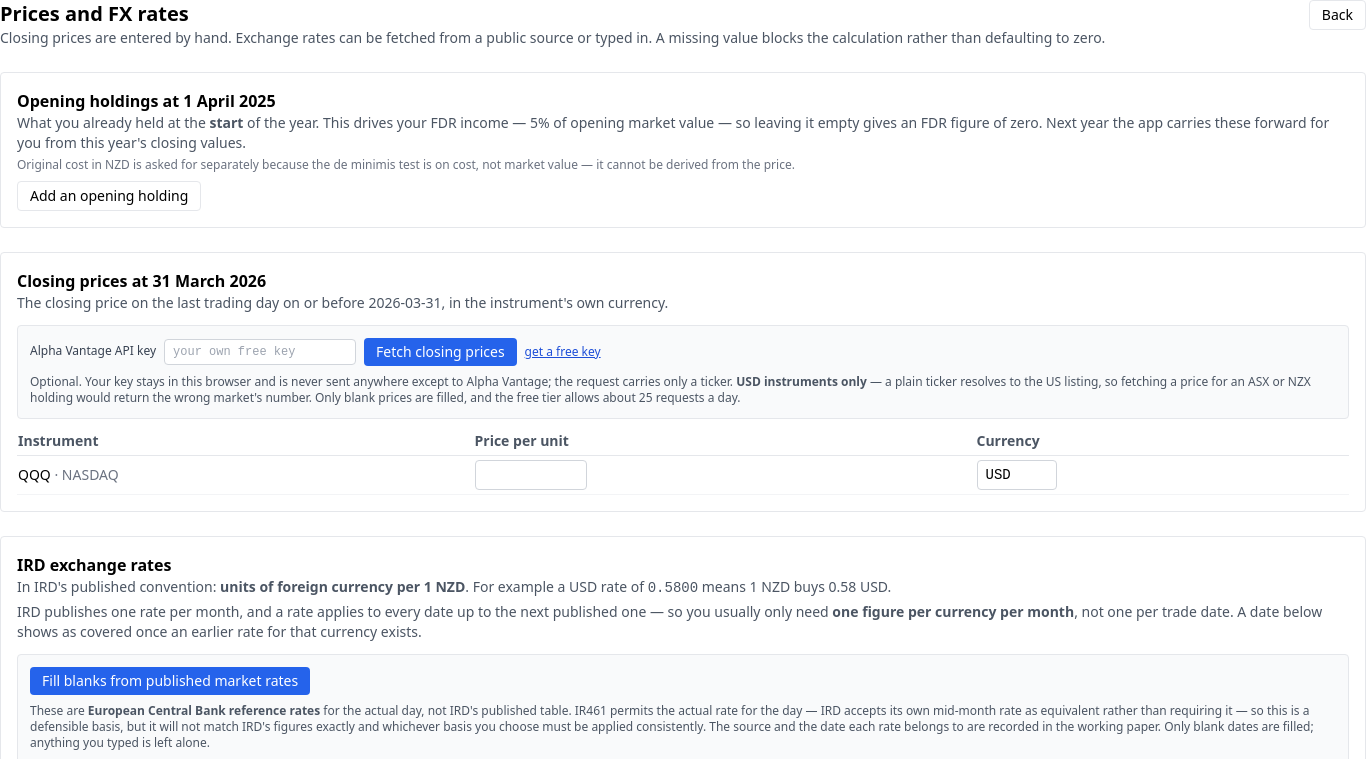
Test: fetching closing prices › asks for a key before attempting anything
Click the button with test id "fetch-prices".
click(440, 352)  # box top-left (364, 338), bottom-right (517, 366)
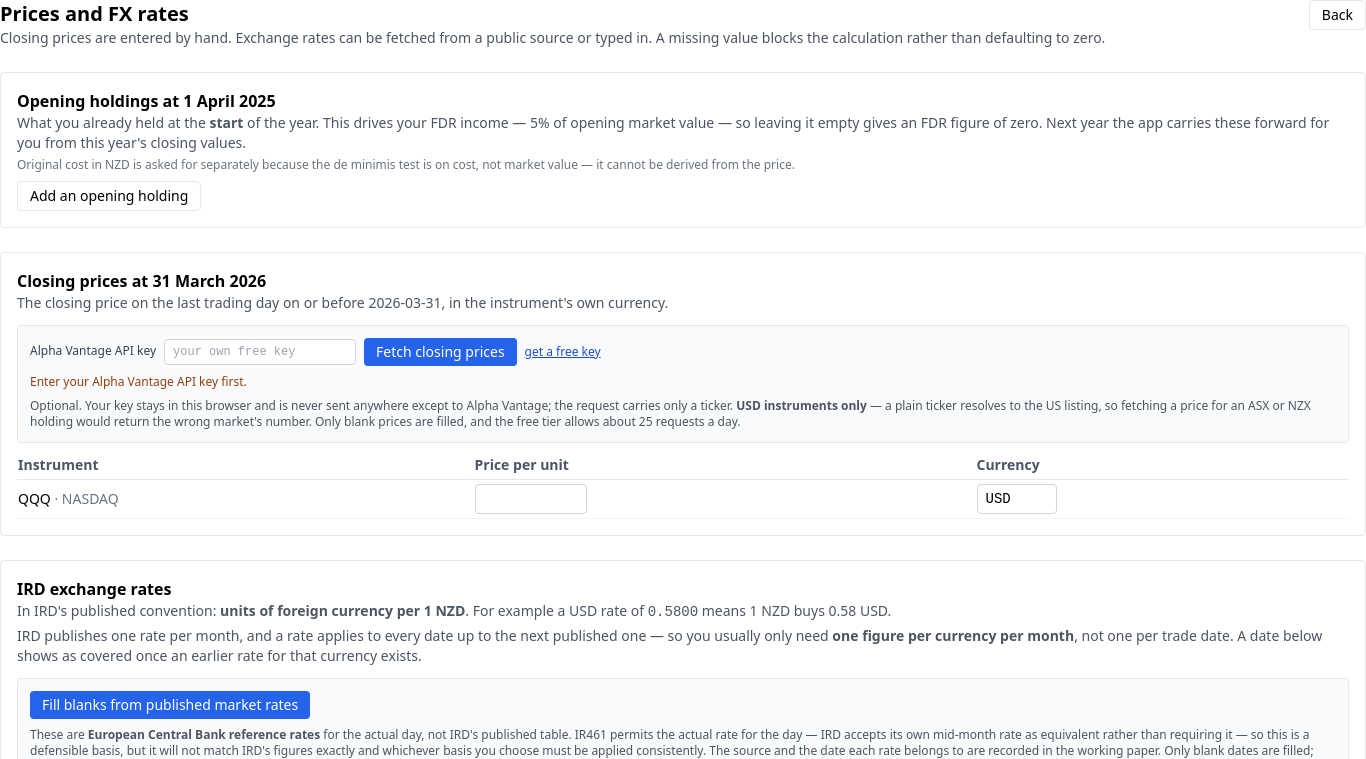
Check: the text with test id "fetch-prices-message" shows "API key first", box top-left (30, 373), bottom-right (247, 390)
